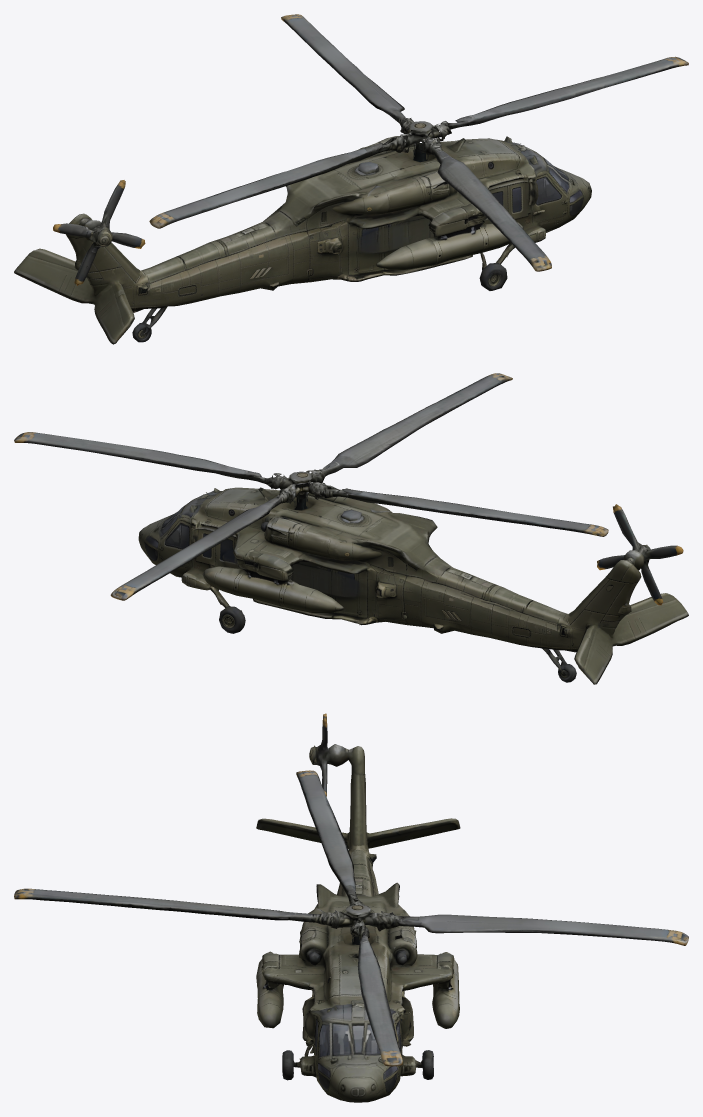
The model's file is Helicopter.fbx.
3 renders of one model, top to bottom at view 1: azimuth 30°, elevation 25°; view 2: azimuth 150°, elevation 25°; view 3: azimuth 270°, elevation 25°, orthographic. The views are drawn at different scales.
Parts seen in each view (by area): view 1: Helicopter_Body, Helicopter_MainRotor; view 2: Helicopter_Body, Helicopter_MainRotor; view 3: Helicopter_Body, Helicopter_MainRotor.
Boxes of the visible parts, x1,y1,x2,y2 form: Helicopter_Body: (14, 136, 591, 344); Helicopter_MainRotor: (149, 14, 688, 271); Helicopter_Body: (138, 487, 688, 684); Helicopter_MainRotor: (14, 373, 608, 600); Helicopter_Body: (256, 713, 460, 1102); Helicopter_MainRotor: (14, 770, 688, 1066).
Size of the model in its own units: 1.06 by 0.2796 by 0.9188.
Materials: 1 (1 with a texture image).
